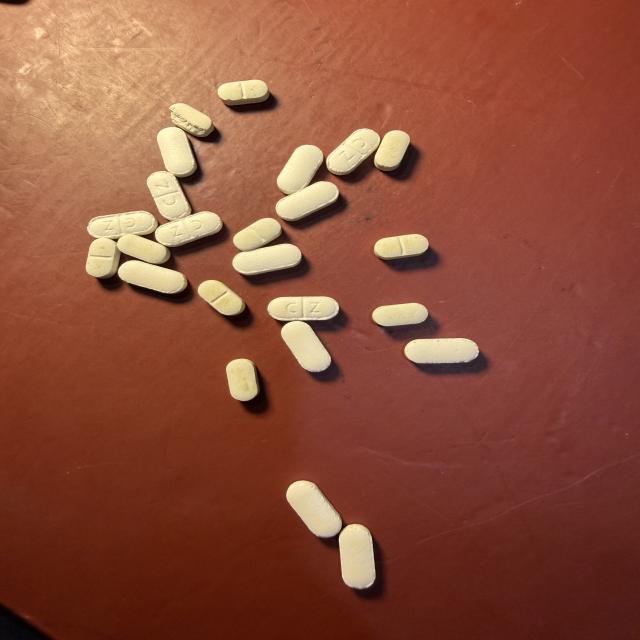pill: (287, 481, 342, 537), (282, 321, 331, 372), (276, 182, 339, 221), (327, 129, 380, 175), (339, 524, 375, 589), (277, 145, 323, 194), (156, 212, 222, 246), (118, 261, 187, 293), (147, 172, 191, 220), (233, 244, 301, 275), (87, 211, 157, 239), (157, 127, 196, 176), (405, 339, 479, 363), (198, 280, 245, 315), (268, 297, 339, 320), (233, 218, 281, 251), (118, 234, 170, 264), (226, 358, 260, 402), (375, 130, 410, 171), (170, 104, 214, 136), (86, 238, 120, 278), (374, 234, 428, 259), (372, 303, 428, 326), (218, 80, 269, 105)
